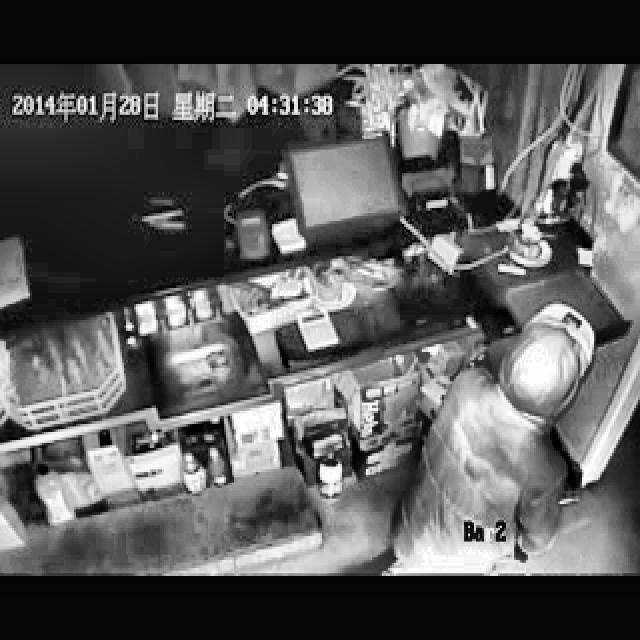burglary: (382, 298, 602, 574)
